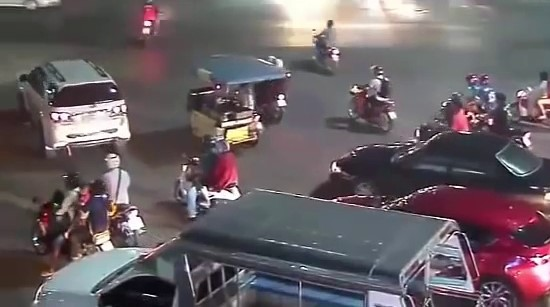car: (37, 197, 479, 307), (326, 185, 548, 306), (331, 135, 550, 213), (14, 59, 129, 155)
motorbike: (32, 170, 112, 265), (174, 134, 242, 219), (98, 152, 144, 249), (471, 93, 534, 159), (416, 97, 471, 159), (349, 66, 395, 132), (506, 75, 550, 128), (461, 72, 499, 123), (261, 54, 287, 123), (312, 20, 340, 73), (141, 1, 159, 46)
